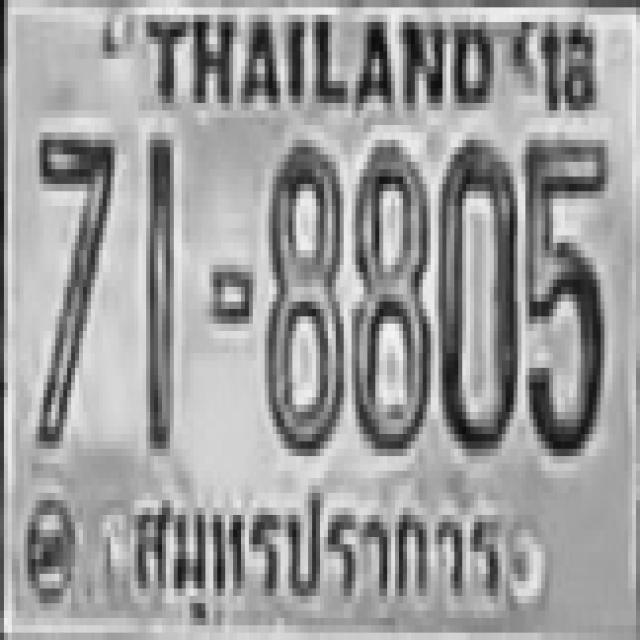0: (436, 132, 516, 449)
1: (142, 132, 174, 449)
5: (522, 132, 604, 449)
7: (34, 125, 112, 441)
8: (262, 140, 342, 449), (349, 140, 428, 449)
SamutPrakan: (119, 472, 507, 608)
